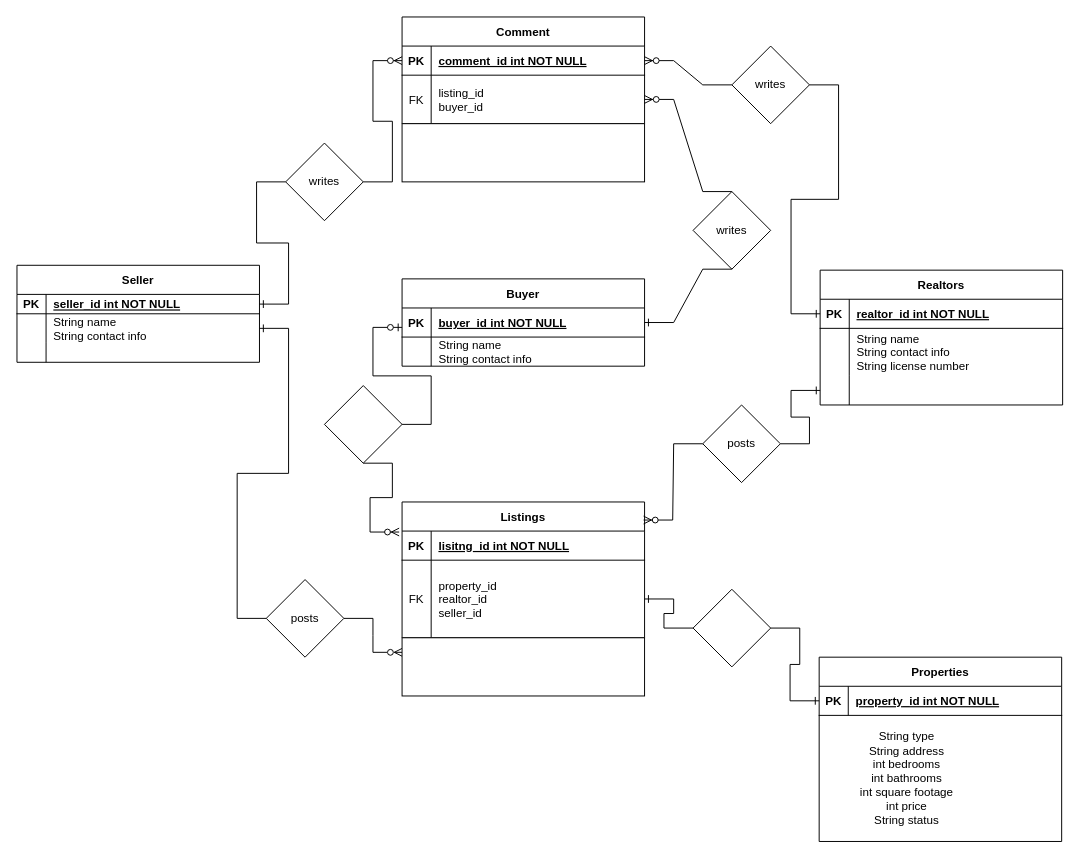
Image size: 1080x858. Some labels were removed from this diagram. Here are the shapes that lost their labels. From the top down, the centre of each, then its label:
At (523,152): "String comment text Date Date posted".
At (362,424): "buys".
At (731,627): "has".
At (523,666): "Date Date listed String description String status".
